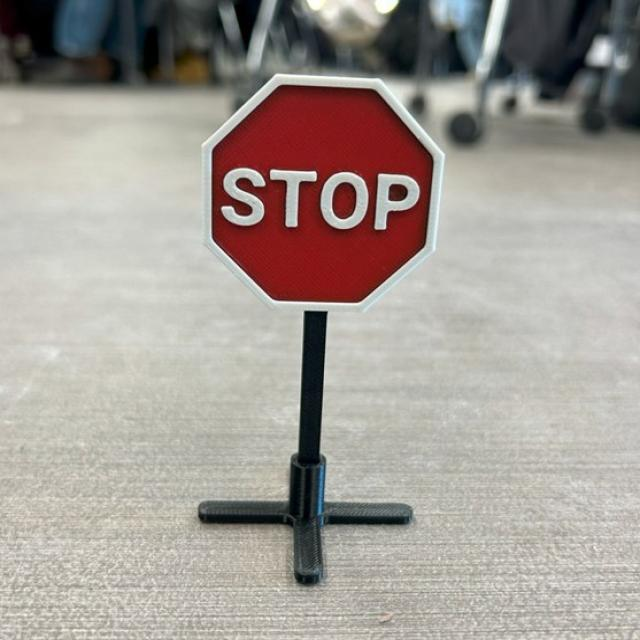sign_stop: (196, 53, 457, 340)
